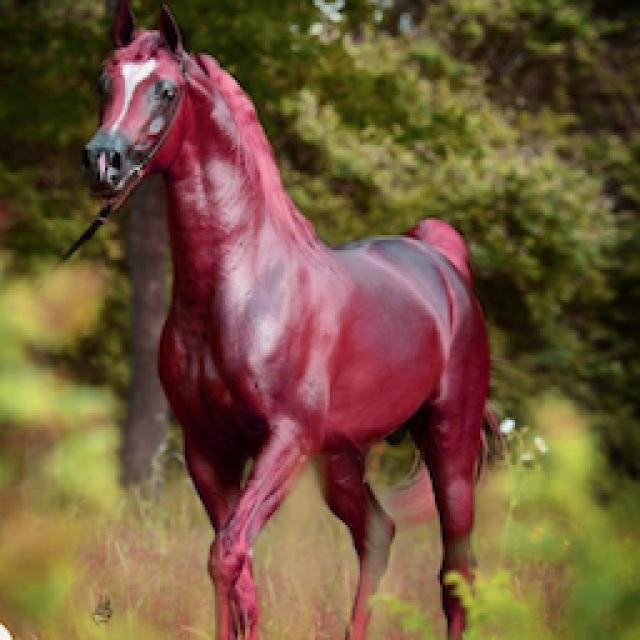Horse: (72, 0, 512, 638)
